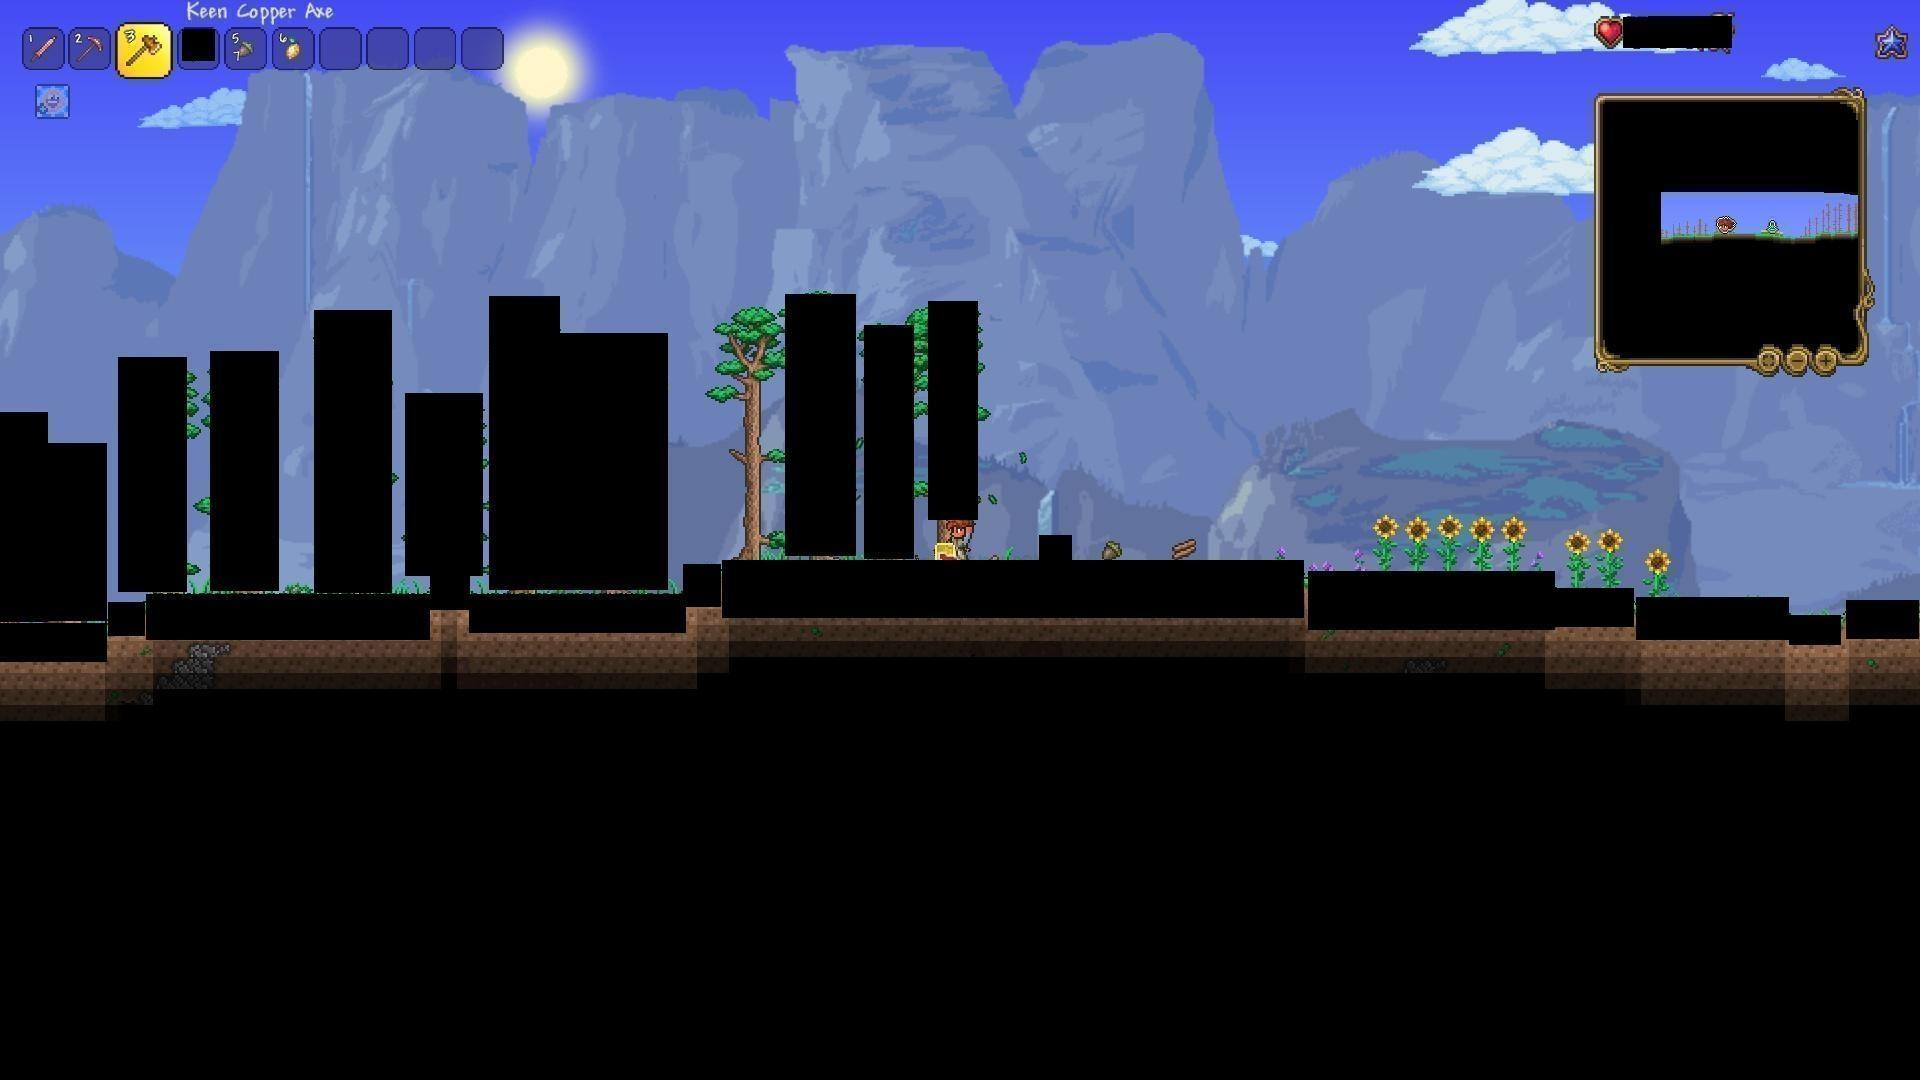heart: (1596, 15, 1627, 45)
tree: (705, 302, 777, 560)
wood: (1167, 535, 1199, 564)
